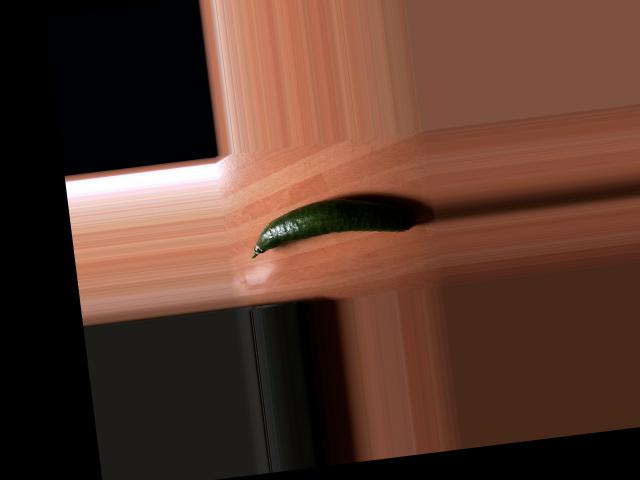cucumber: (244, 188, 419, 258)
